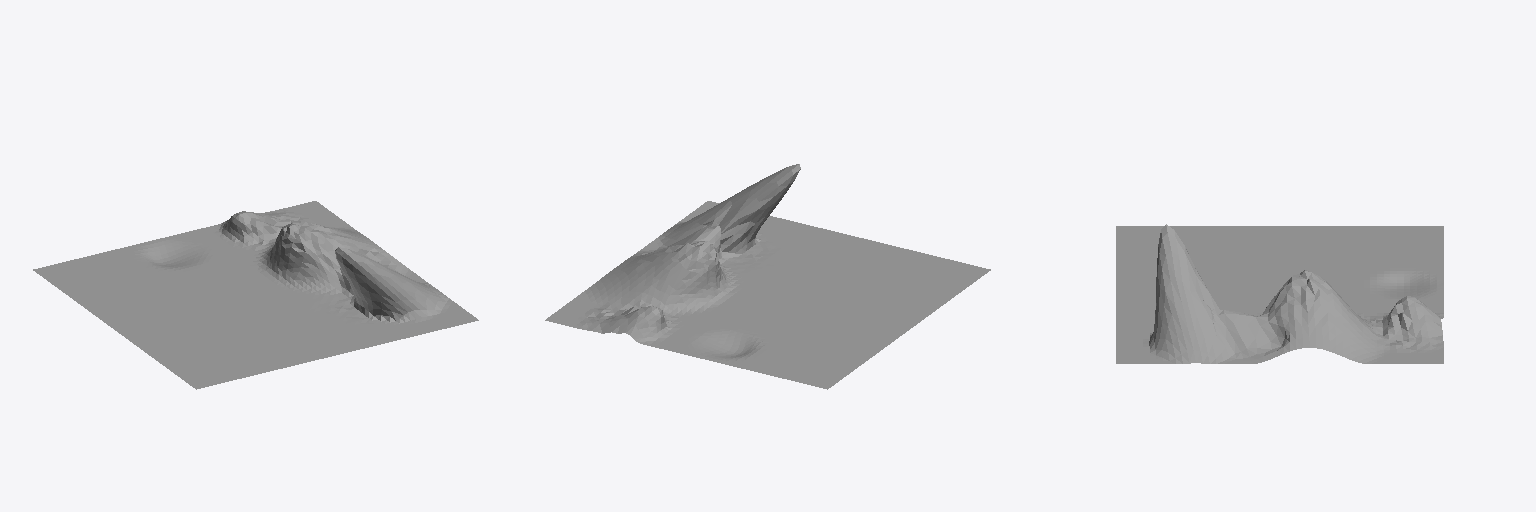
The model's file is land.obj.
3 views of the same model, side by side, from view 1: azimuth 30°, elevation 25°; view 2: azimuth 150°, elevation 25°; view 3: azimuth 270°, elevation 25° (orthographic).
Visible parts, largest first — view 1: Grid; view 2: Grid; view 3: Grid.
Boxes of the visible parts, x1,y1,x2,y2 form: Grid: [33, 201, 478, 389]; Grid: [545, 164, 990, 389]; Grid: [1116, 224, 1443, 363].
Bounding box in the file's own units: 36.81 × 11.02 × 36.81.